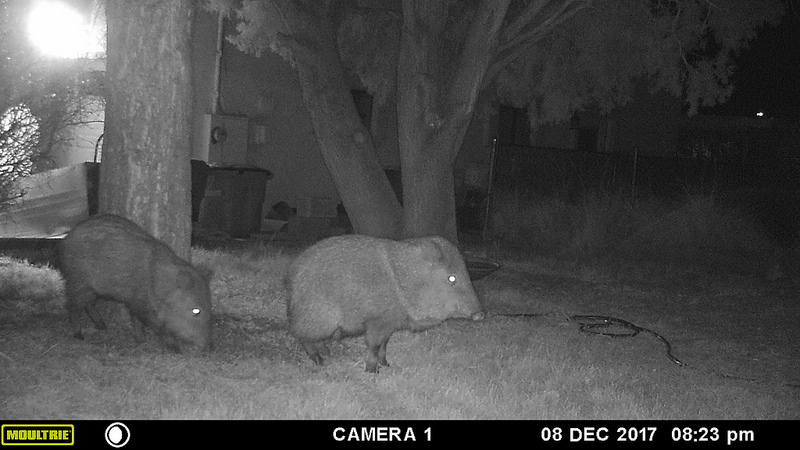javelina: (278, 227, 498, 375), (67, 209, 224, 357)
